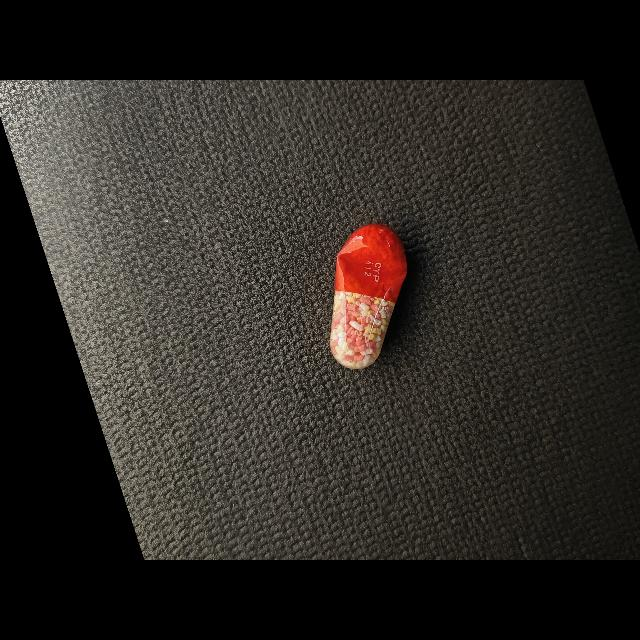Defective Capsule: (330, 224, 408, 369)
